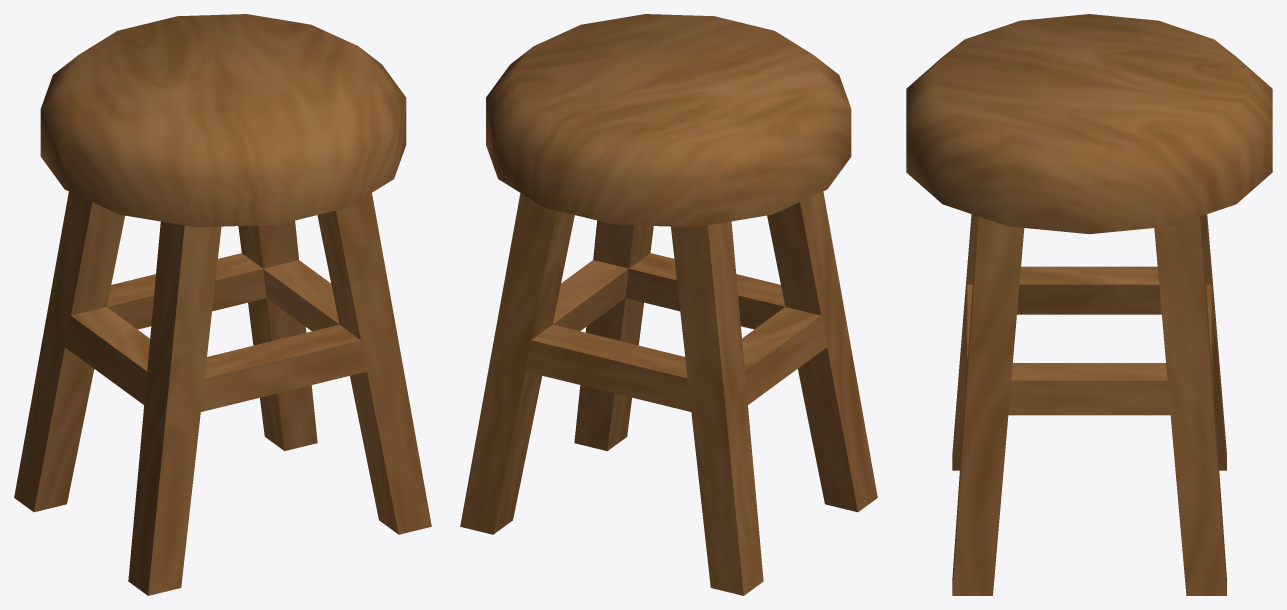
File: Stool.FBX
3 renders of one model, left to right at view 1: azimuth 30°, elevation 25°; view 2: azimuth 150°, elevation 25°; view 3: azimuth 270°, elevation 25°, orthographic. The views are drawn at different scales.
Visible parts, largest first — view 1: Cylinder001; view 2: Cylinder001; view 3: Cylinder001.
Part boxes in pixels (x1=…): Cylinder001: x1=14, y1=14, x2=431, y2=595; Cylinder001: x1=460, y1=14, x2=877, y2=595; Cylinder001: x1=906, y1=14, x2=1272, y2=595.
Size of the model in its own units: 120 by 156 by 117.
1 material, 1 textured.
